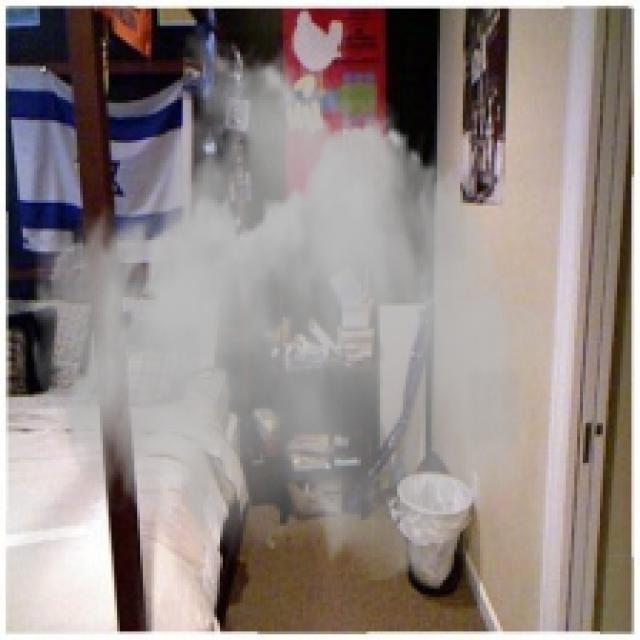smoke: (26, 23, 563, 586)
